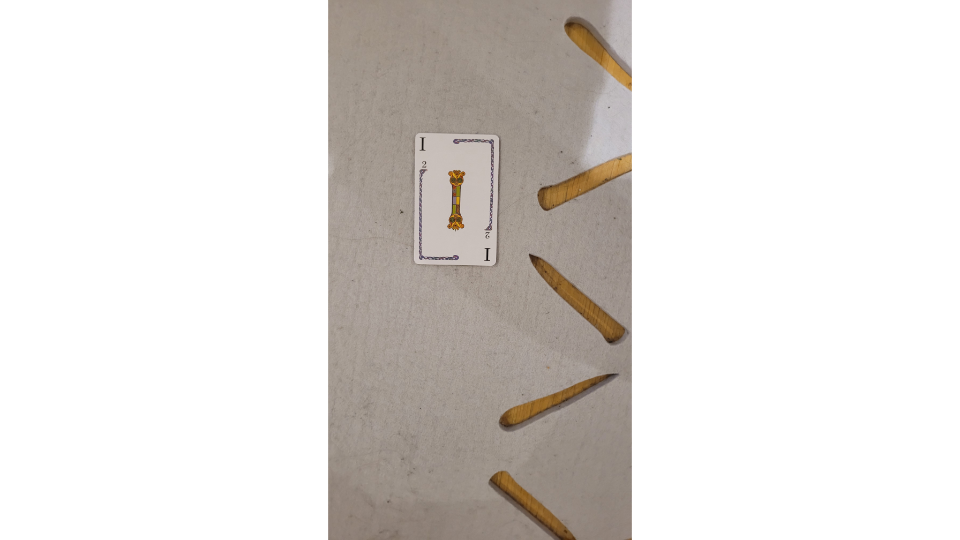I: (412, 130, 500, 270)
